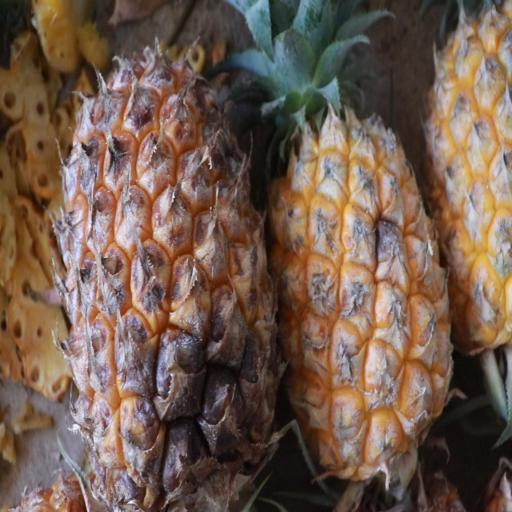Pineapple - v8 v1: (54, 37, 280, 512), (264, 37, 455, 498)
